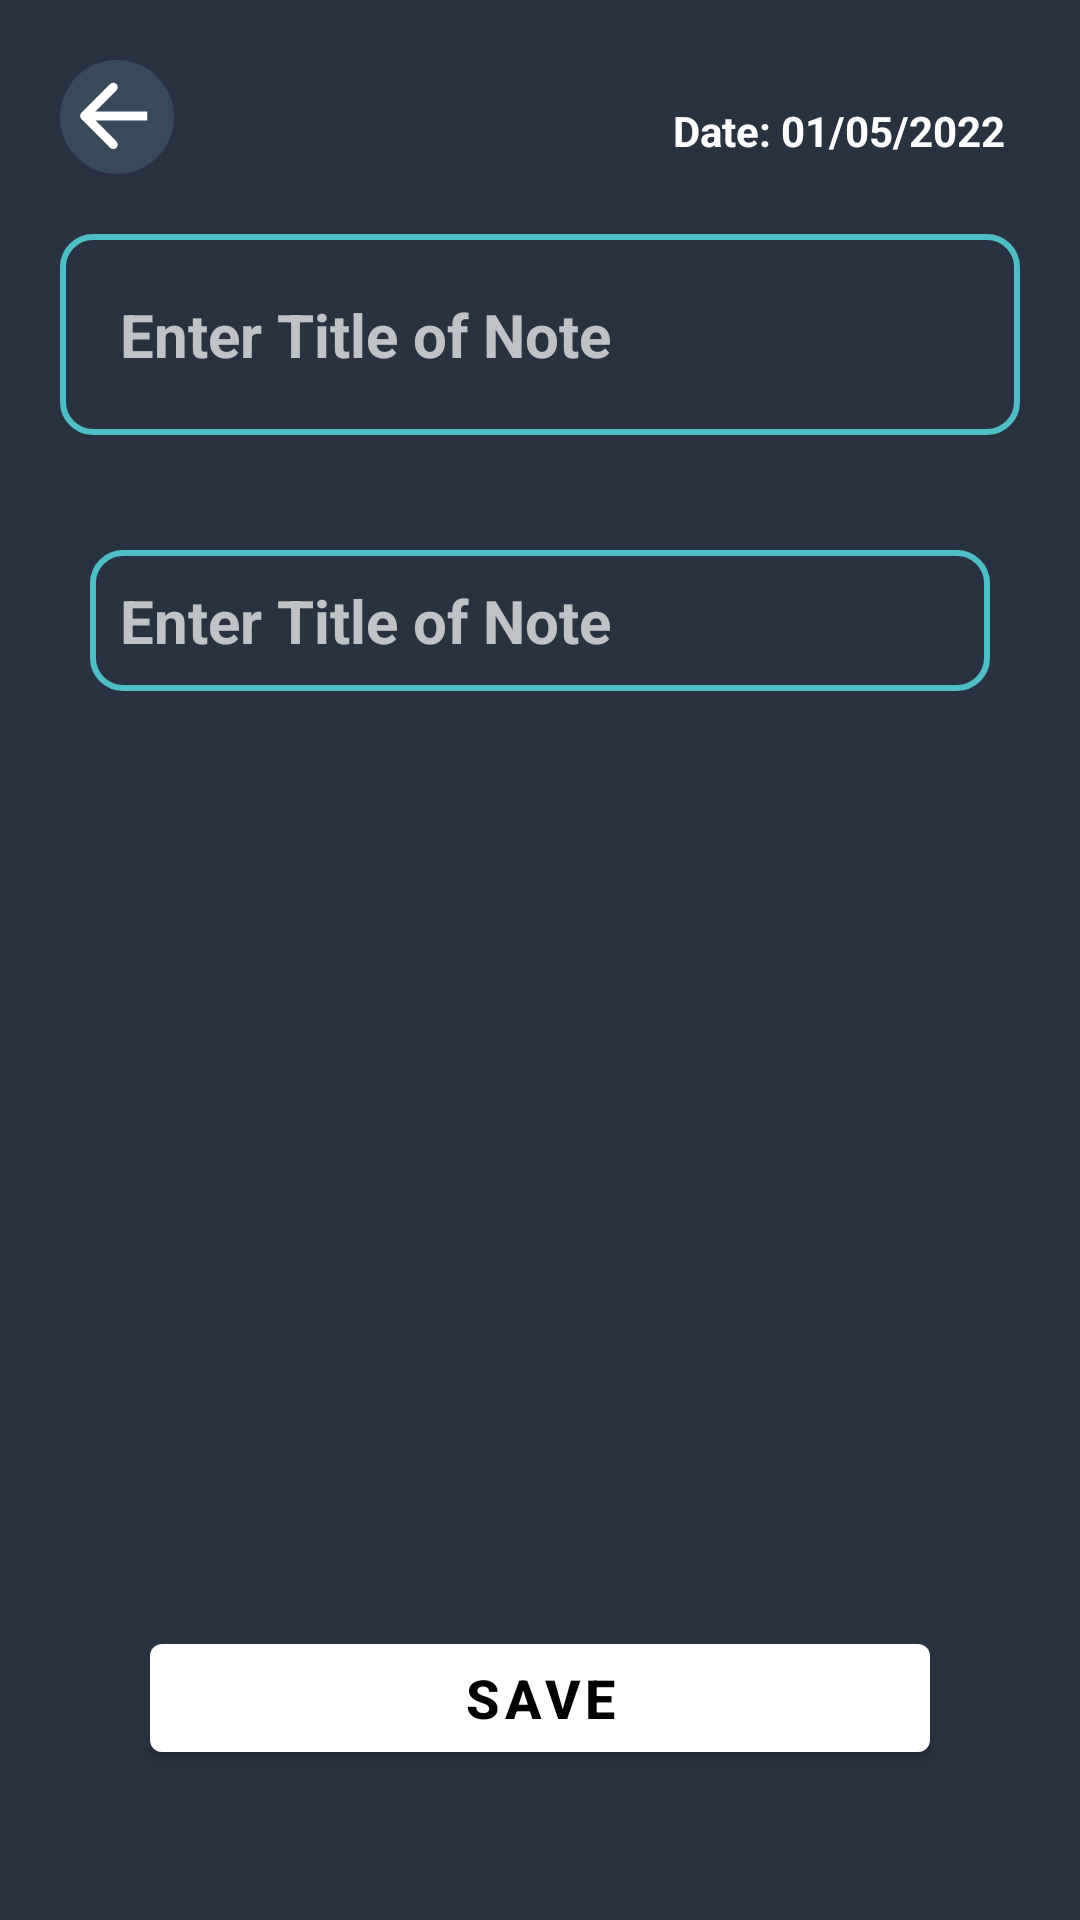

Where icons sit on this 1080 × 1920 app screen, as (x1, y1, x2, y2):
back: (60, 60, 174, 174)
